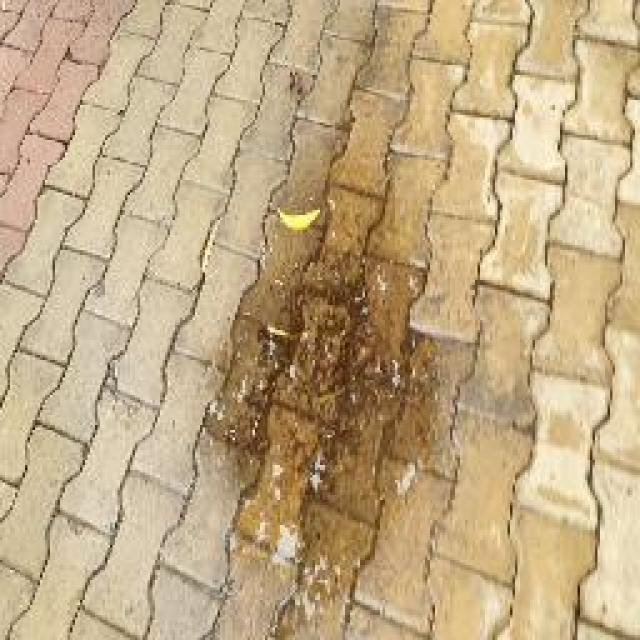stagnation: (202, 245, 443, 584)
